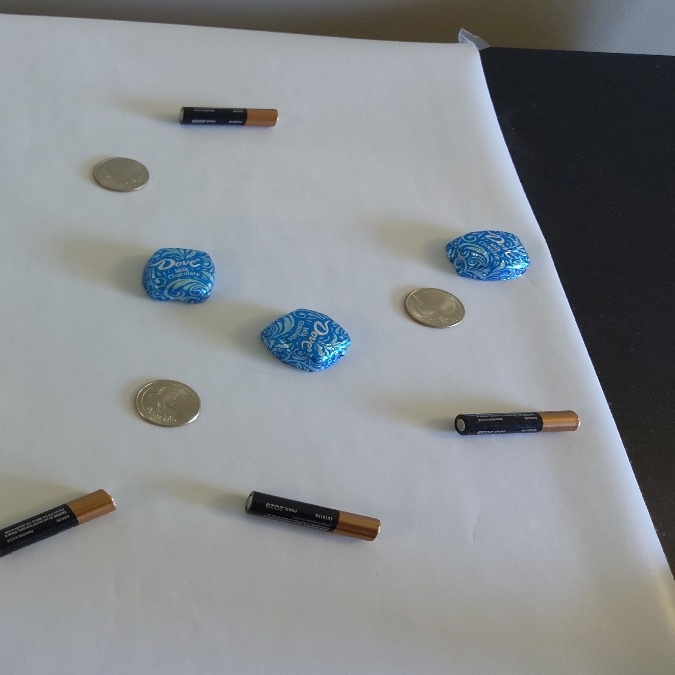battery: (228, 481, 397, 551), (450, 404, 591, 448), (163, 95, 308, 132)
chocolate_blue: (254, 302, 353, 375), (437, 220, 531, 287), (133, 239, 219, 312)
coin_quarter: (129, 374, 213, 438), (395, 278, 477, 334), (83, 154, 159, 199)
